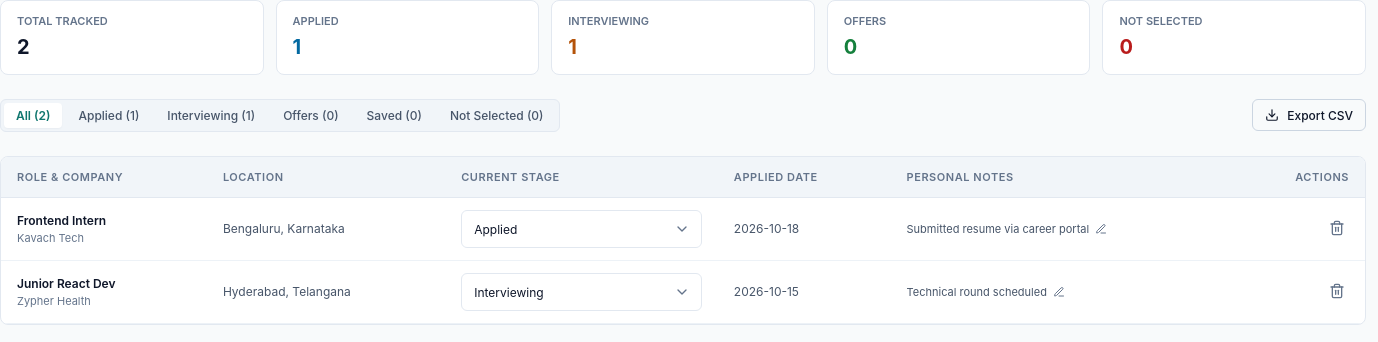
ApplicationTable Component › filters by status tab
Switch to Interviewing tab
What coordinates should you click on to do the following:
click the tab "Interviewing (1)"
I would click on:
 (211, 115)
Its box is [155,102,267,128].
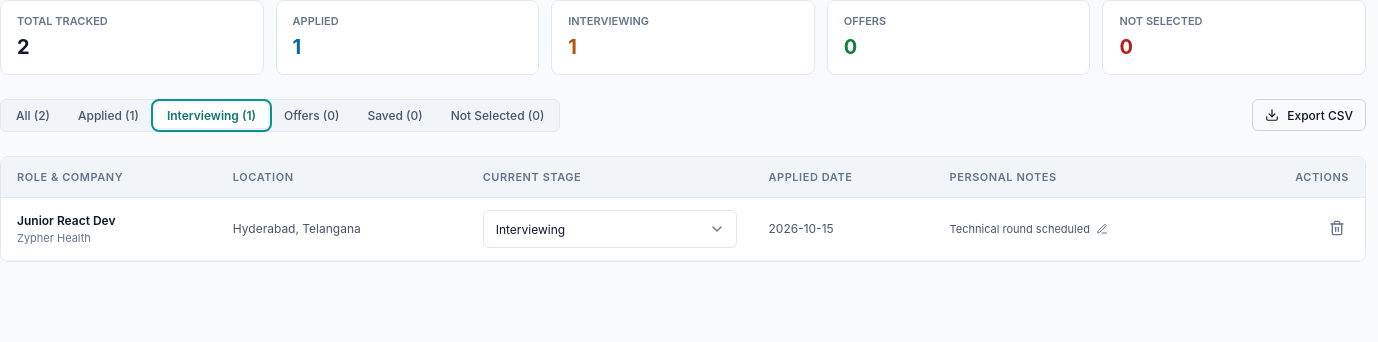
Expected: the text "Junior React Dev" is shown, [17,213,116,228]
Expected: the text "Frontend Intern" is gone
